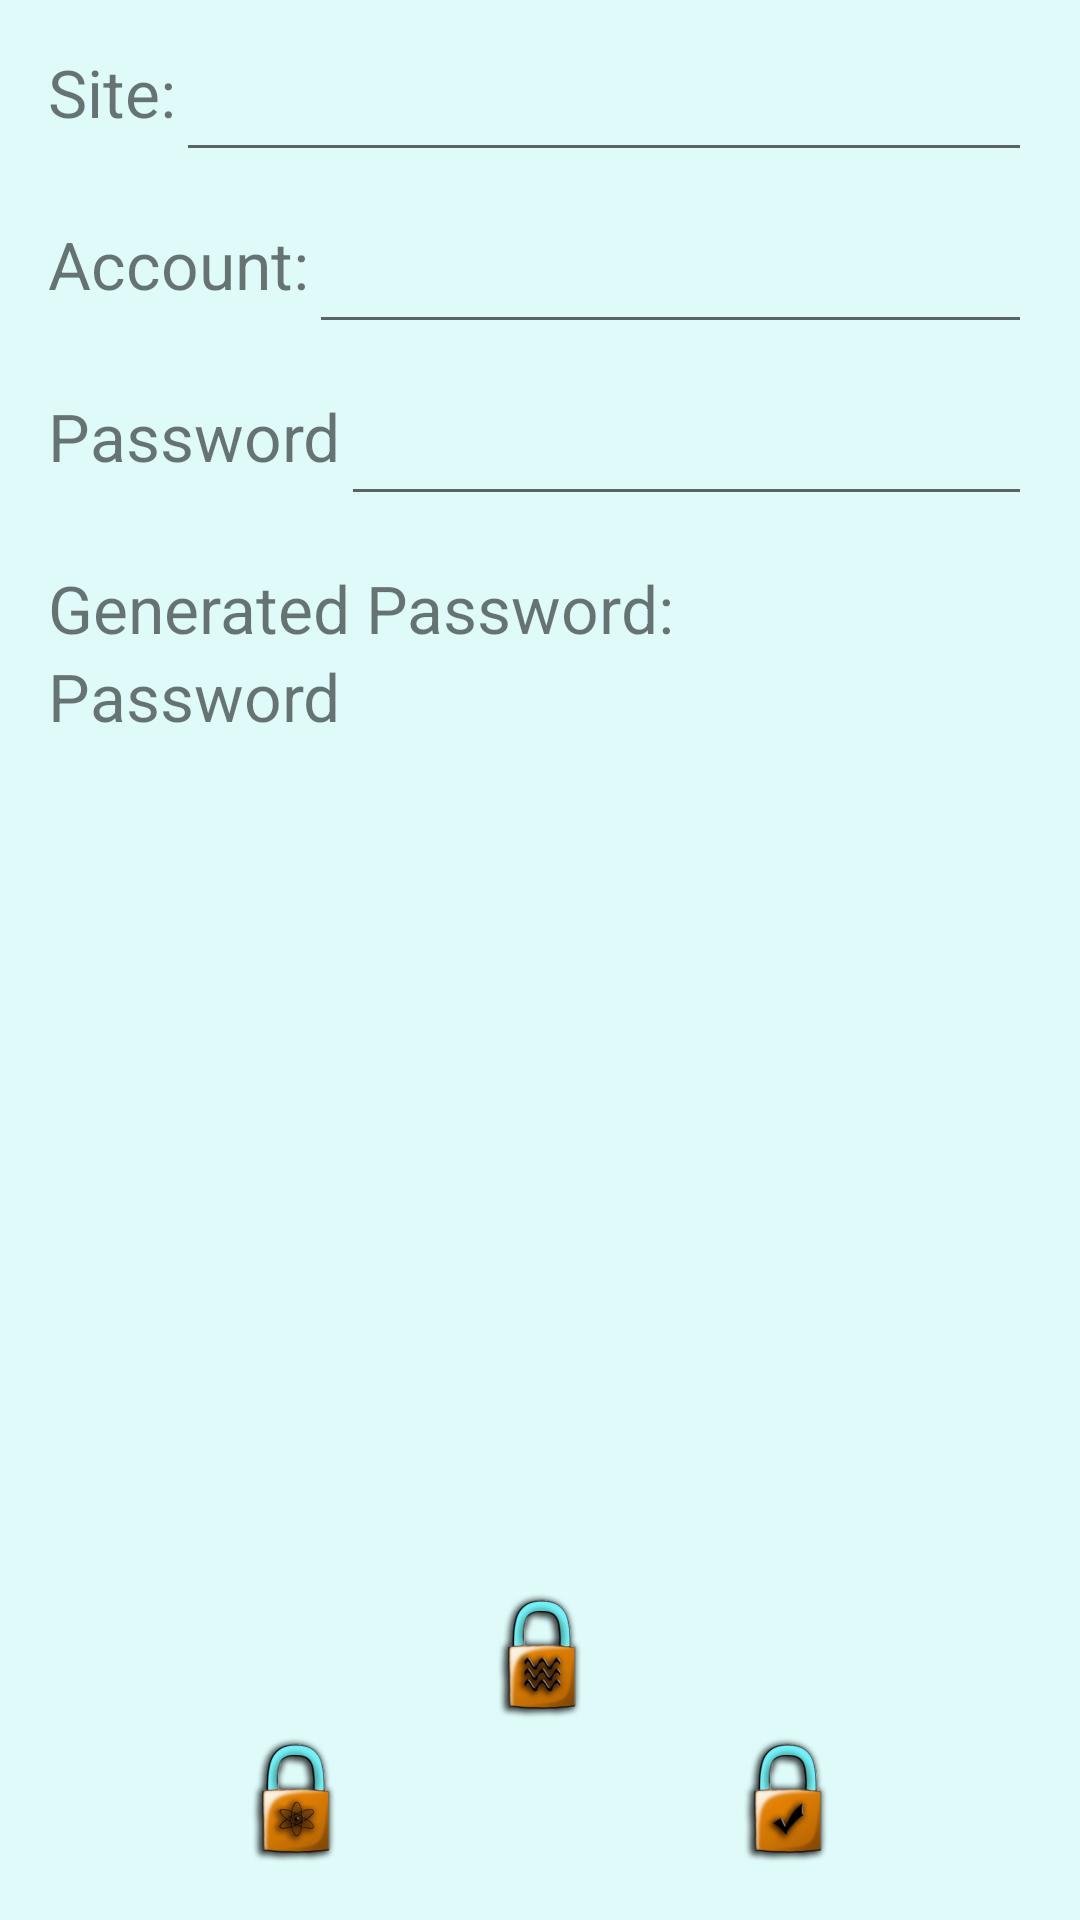

Icons on this 1080px x 1920px Android screen, each with the point to tap as (x=x, y=y):
cadeado gerar: (x=293, y=1800)
cadeado lista: (x=539, y=1656)
cadeado ok: (x=785, y=1800)
